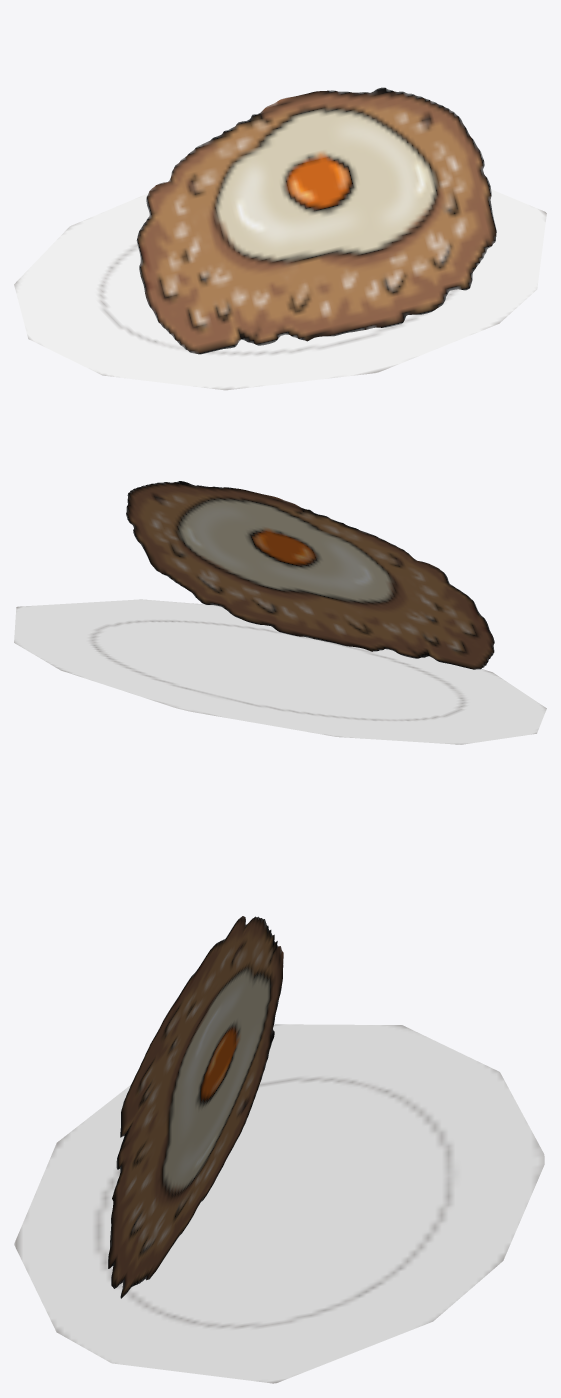
The model's file is giftgoods051.fbx.
3 views of the same model, one above another, from view 1: azimuth 30°, elevation 25°; view 2: azimuth 150°, elevation 25°; view 3: azimuth 270°, elevation 25° (orthographic). The views are drawn at different scales.
Visible parts, largest first — view 1: giftgoods051; view 2: giftgoods051; view 3: giftgoods051.
Boxes of the visible parts, x1,y1,x2,y2 form: giftgoods051: (14,87,546,390); giftgoods051: (14,481,546,744); giftgoods051: (14,916,544,1383).
Bounding box in the file's own units: 0.6394 × 0.2764 × 0.4006.
